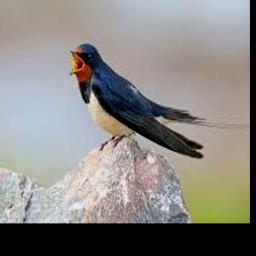Swallow: (70, 44, 206, 159)
